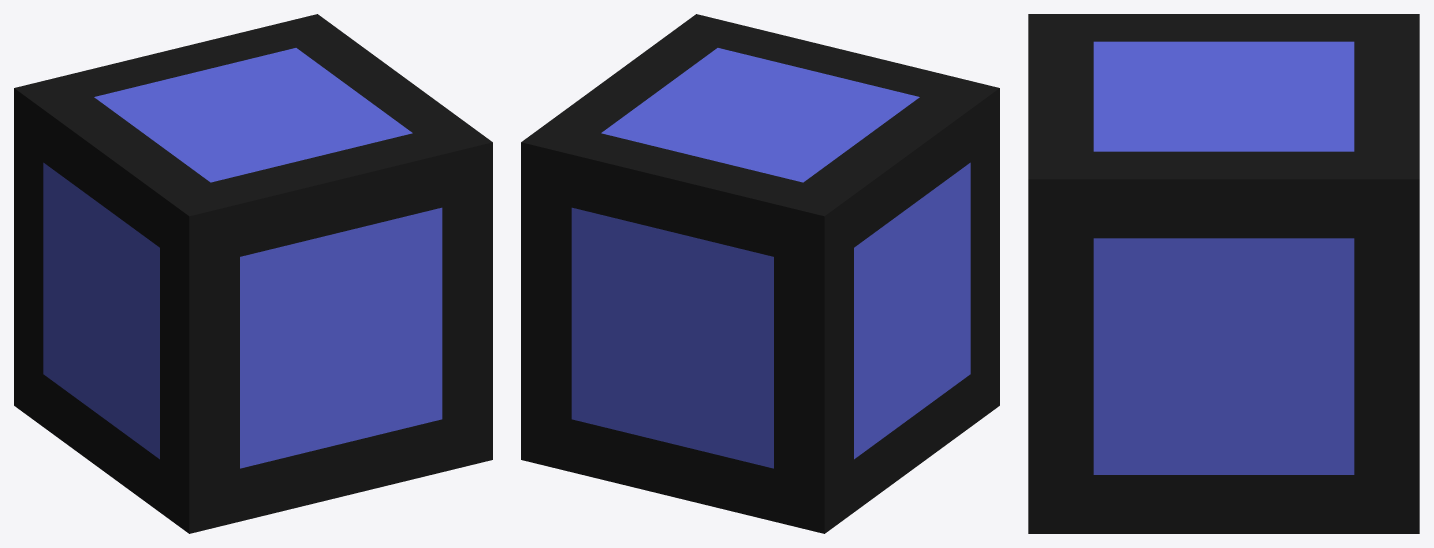
The model's file is Tile.fbx.
3 renders of one model, left to right at view 1: azimuth 30°, elevation 25°; view 2: azimuth 150°, elevation 25°; view 3: azimuth 270°, elevation 25°, orthographic. The views are drawn at different scales.
Visible parts, largest first — view 1: Cube; view 2: Cube; view 3: Cube.
Part boxes in pixels (x1,y1,x2,y2): Cube: (14, 14, 492, 533); Cube: (521, 14, 999, 533); Cube: (1028, 14, 1419, 533).
Size of the model in its own units: 100 by 100 by 100.
